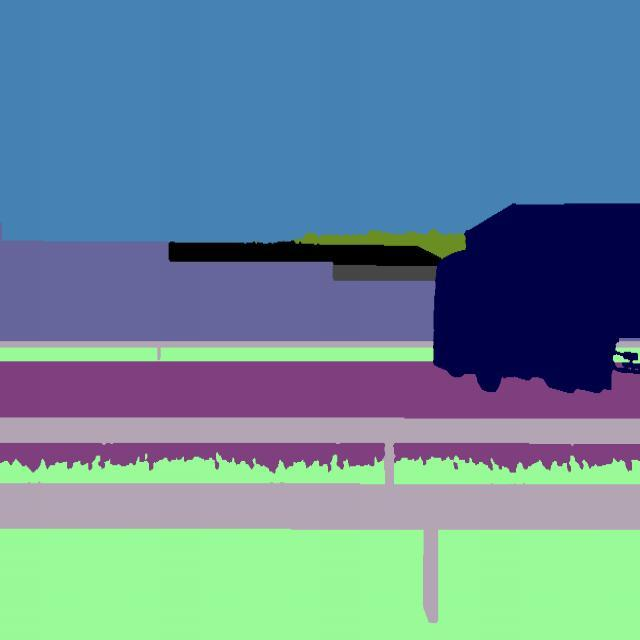safe: (430, 199, 640, 392)
